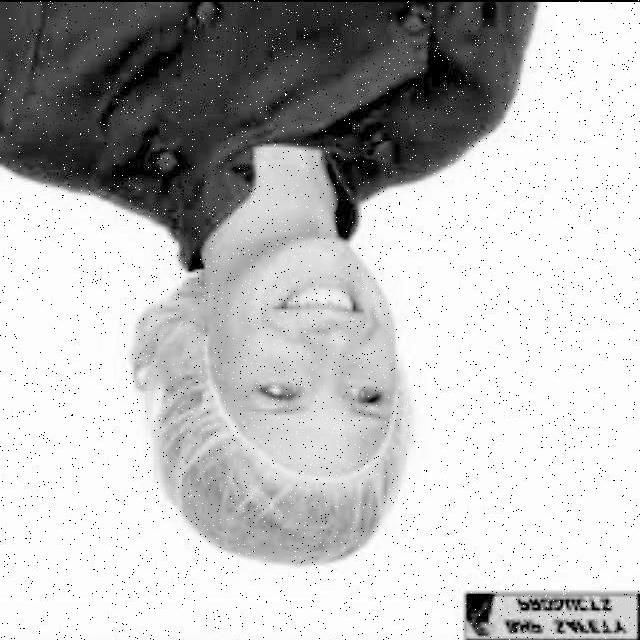no_hairnet: (218, 230, 404, 367)
